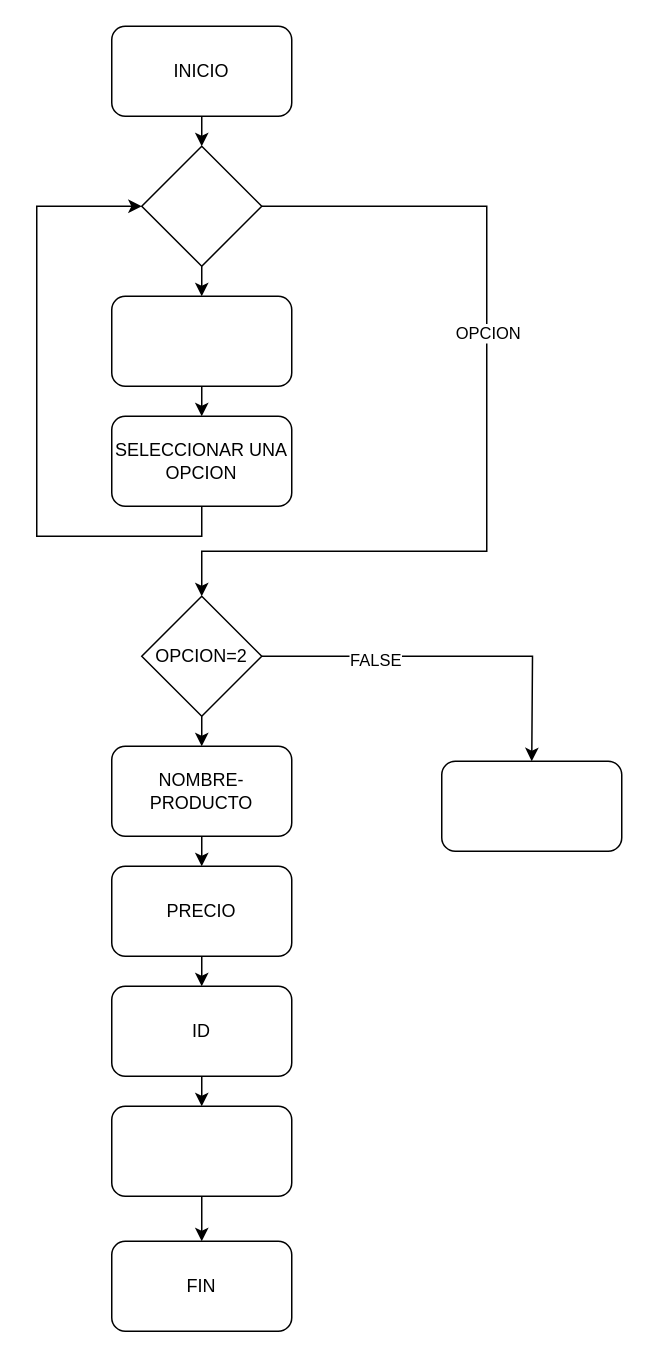
The diagram is 648 pixels wide and 1358 high, and some of its shapes have lost their labels. The shapes that lost their labels are listed below. From the top down, each one's centre as x and y in pixels, then its label:
At point (201, 205): "While (True)".
At point (201, 340): "MENU PRINCIPAL".
At point (531, 805): "EJECUTAR OTRA ACCION".
At point (201, 1150): "MENSAJE-CONFIRMACION".
